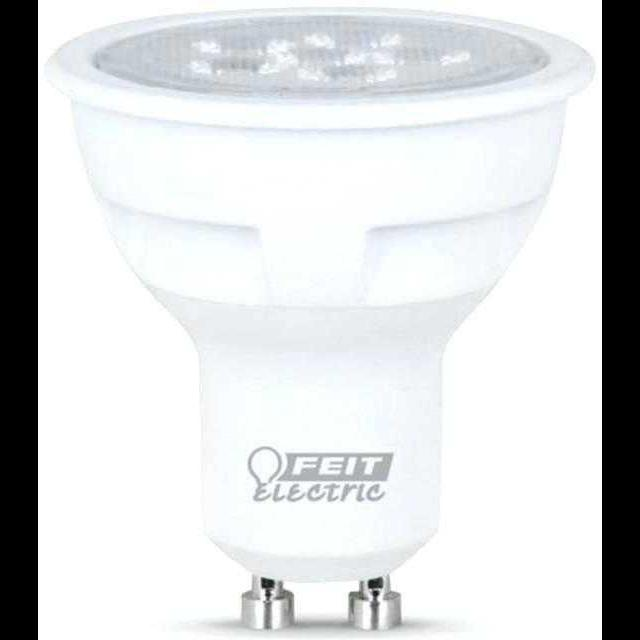light_bulb: (52, 7, 600, 629)
